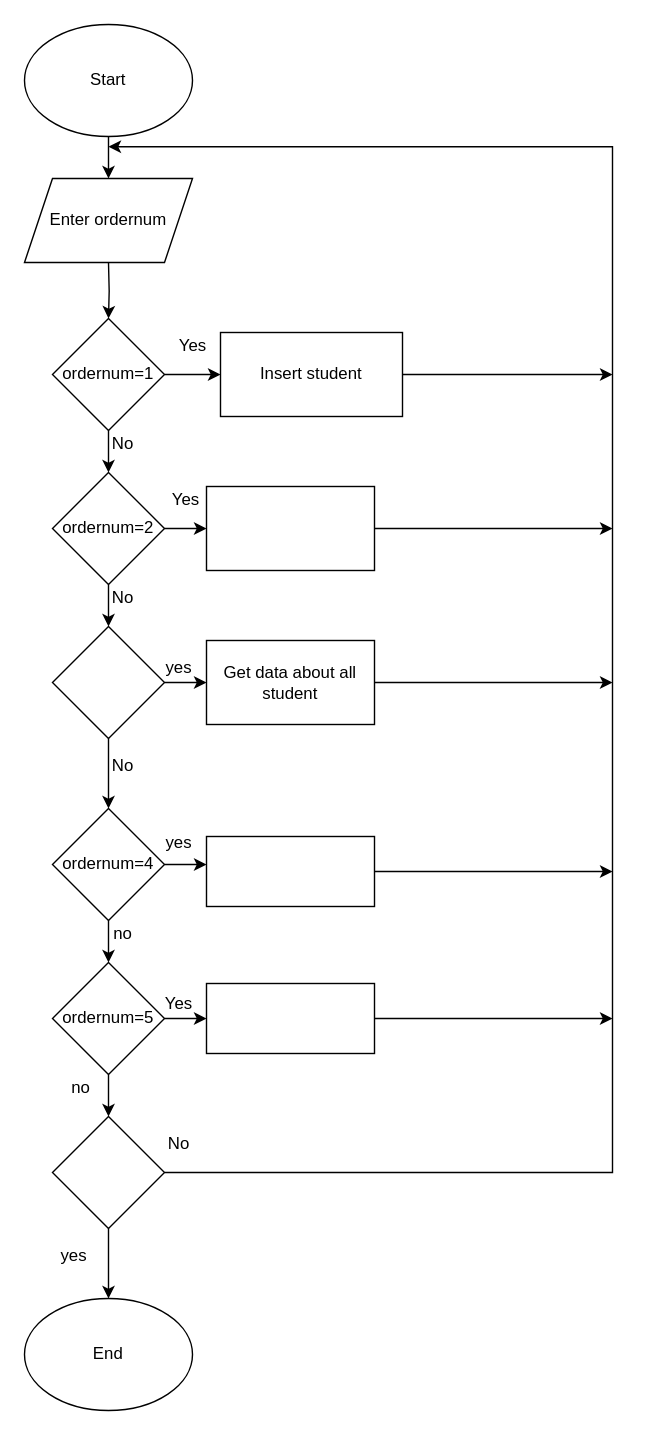
The diagram is 648 pixels wide and 1435 high, and some of its shapes have lost their labels. Here are the shapes that lost their labels. From the top down, the box of each, then its label:
(205, 485, 374, 570): Search student by studentcode
(51, 625, 164, 738): ordernum=3
(205, 835, 374, 906): Delete student by studentcode
(205, 982, 374, 1054): Edit student's data by studentcode
(51, 1115, 164, 1228): ordernum=6
